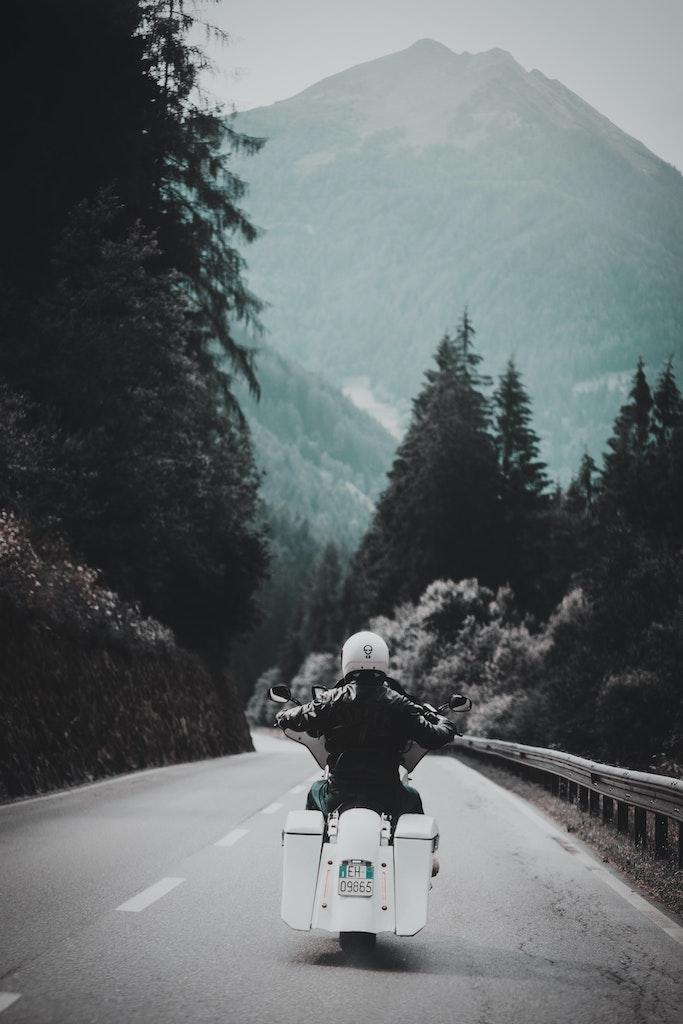helmet: (340, 629, 390, 686)
